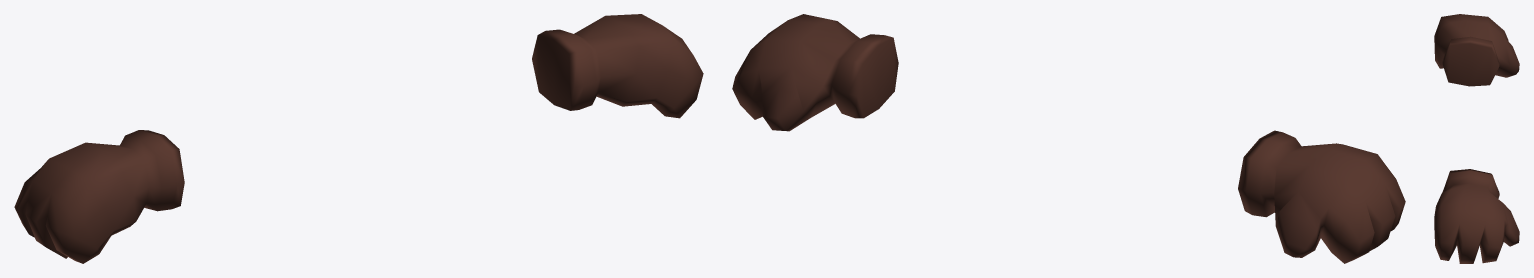
File: Glove_10.fbx
3 views of the same model, side by side, from view 1: azimuth 30°, elevation 25°; view 2: azimuth 150°, elevation 25°; view 3: azimuth 270°, elevation 25° (orthographic). The views are drawn at different scales.
Visible parts, largest first — view 1: Glove_10; view 2: Glove_10; view 3: Glove_10.
Part boxes in pixels (x1,y1,x2,y2): Glove_10: (14,14,703,263); Glove_10: (732,14,1405,263); Glove_10: (1434,14,1519,263).
Size of the model in its own units: 140 by 19.41 by 23.93.
